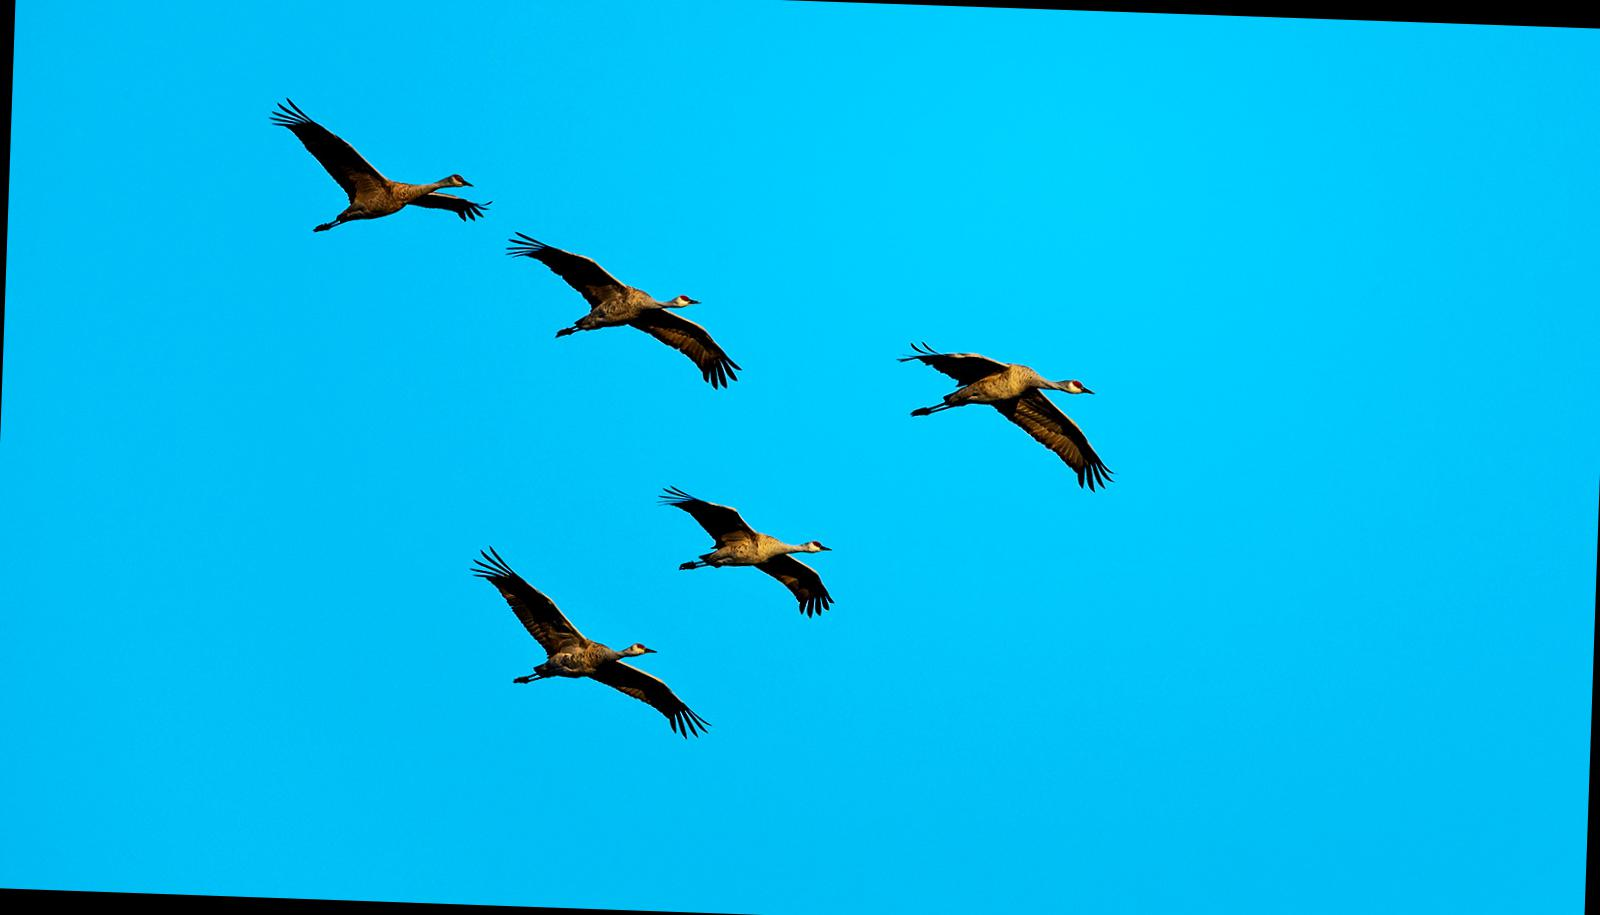bird: (493, 215, 764, 406), (877, 316, 1146, 506), (633, 459, 853, 624)
